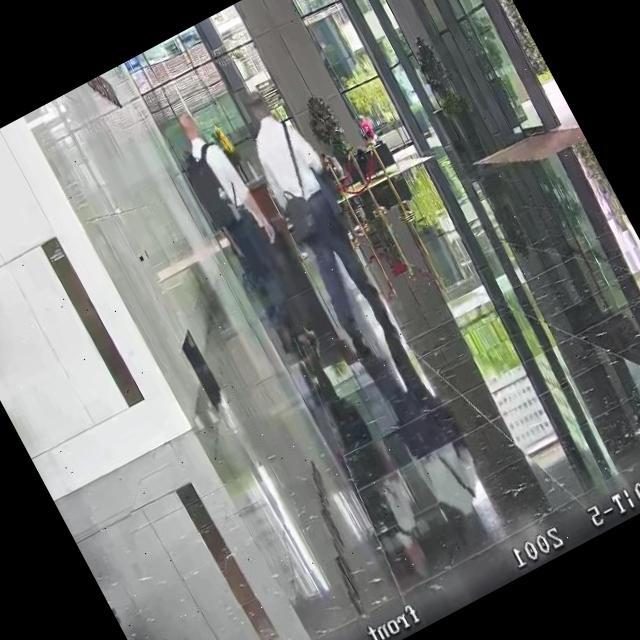person: (222, 75, 416, 368), (162, 100, 328, 353), (340, 128, 390, 184), (318, 148, 342, 180), (356, 112, 376, 140)
